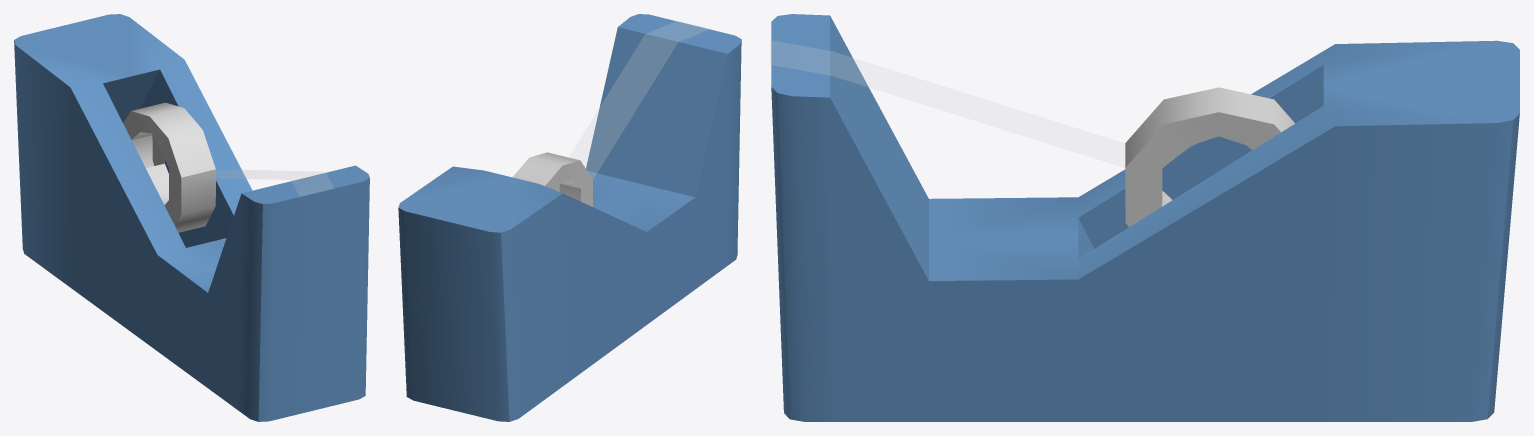
File: TapeDispenser.fbx
3 views of the same model, side by side, from view 1: azimuth 30°, elevation 25°; view 2: azimuth 150°, elevation 25°; view 3: azimuth 270°, elevation 25° (orthographic). The views are drawn at different scales.
Parts seen in each view (by area): view 1: Cube; view 2: Cube; view 3: Cube.
Boxes of the visible parts, left/top/right/bottom form: Cube: left=14, top=14, right=369, bottom=421; Cube: left=398, top=14, right=741, bottom=421; Cube: left=770, top=14, right=1519, bottom=421.
Size of the model in its own units: 98.97 by 184 by 381.
